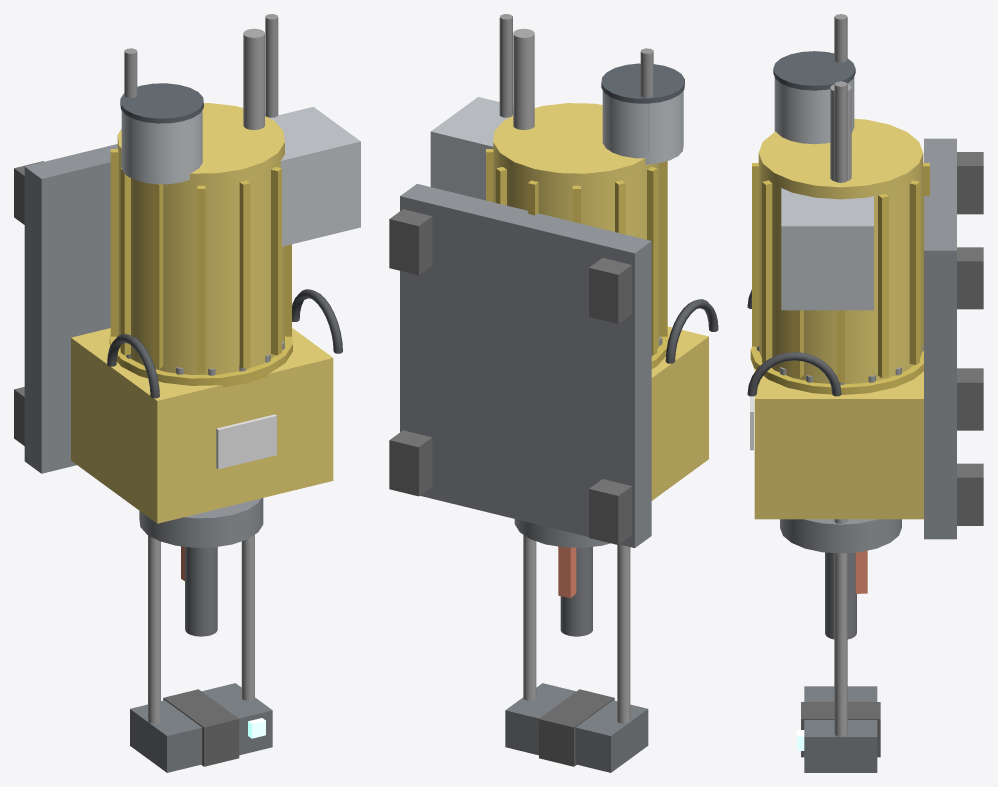
Rendered from topdrive.glb.
3 renders of one model, left to right at view 1: azimuth 30°, elevation 25°; view 2: azimuth 150°, elevation 25°; view 3: azimuth 270°, elevation 25°, orthographic. The views are drawn at different scales.
Parts seen in each view (by area): view 1: object 3, object 4, object 7, inst, object 5, object 18, object 21, object 27, object 19, object 1, object 22, object 26 (+10 smaller); view 2: object 7, object 4, object 3, object 18, inst, object 5, object 21, object 19, object 10, object 11, object 9, object 8 (+10 smaller); view 3: object 3, object 4, object 7, object 5, inst, object 18, object 27, object 21, object 16, object 22, object 23, object 8 (+10 smaller).
Part boxes in pixels (x1,y1,x2,y2): object 3: [71, 328, 333, 523]; object 4: [117, 103, 284, 374]; object 7: [24, 114, 268, 473]; inst: [110, 149, 291, 373]; object 5: [269, 107, 360, 246]; object 18: [130, 683, 272, 772]; object 21: [121, 110, 202, 184]; object 27: [139, 498, 263, 547]; object 19: [163, 689, 239, 766]; object 1: [185, 546, 217, 636]; object 22: [120, 83, 203, 123]; object 26: [216, 414, 276, 469]; object 7: [400, 184, 651, 547]; object 4: [493, 103, 659, 348]; object 3: [651, 326, 708, 500]; object 18: [505, 683, 648, 772]; inst: [486, 149, 667, 355]; object 5: [430, 97, 513, 200]; object 21: [602, 90, 683, 164]; object 19: [539, 689, 614, 766]; object 10: [389, 430, 432, 496]; object 11: [389, 209, 432, 275]; object 9: [589, 258, 631, 323]; object 8: [589, 479, 631, 544]; object 3: [754, 368, 923, 519]; object 4: [758, 118, 923, 384]; object 7: [924, 138, 956, 539]; object 5: [781, 188, 873, 310]; inst: [752, 163, 929, 382]; object 18: [804, 686, 877, 772]; object 27: [780, 519, 901, 553]; object 21: [774, 77, 854, 144]; object 16: [834, 519, 847, 736]; object 22: [773, 51, 855, 90]; object 23: [750, 346, 923, 394]; object 8: [957, 368, 983, 430].
Size of the model in its own units: 2.1 by 5.81 by 1.78.
